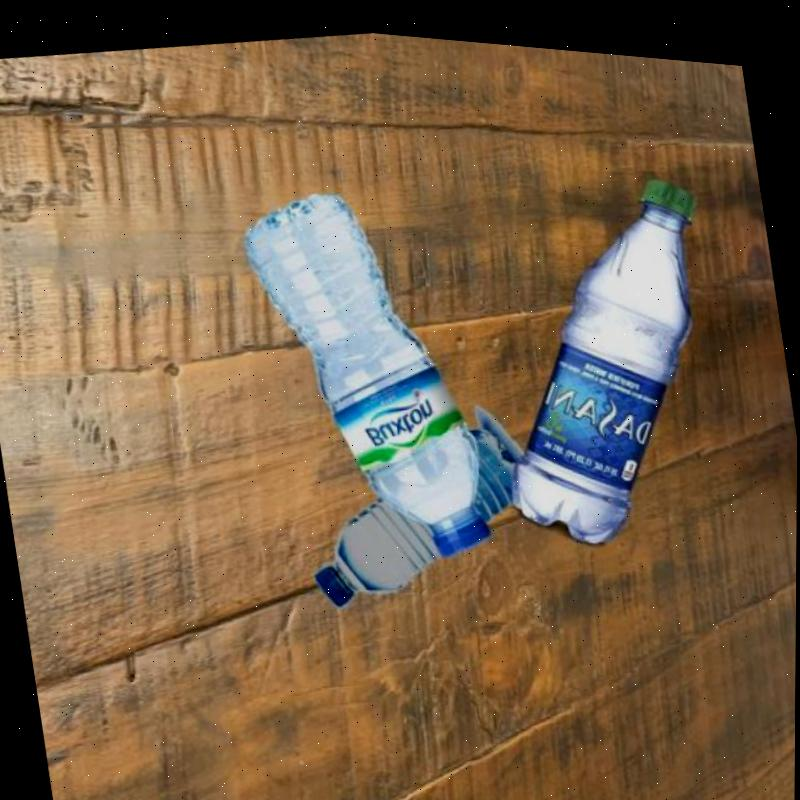botella: (471, 141, 750, 556), (234, 165, 496, 575), (288, 403, 537, 614)
